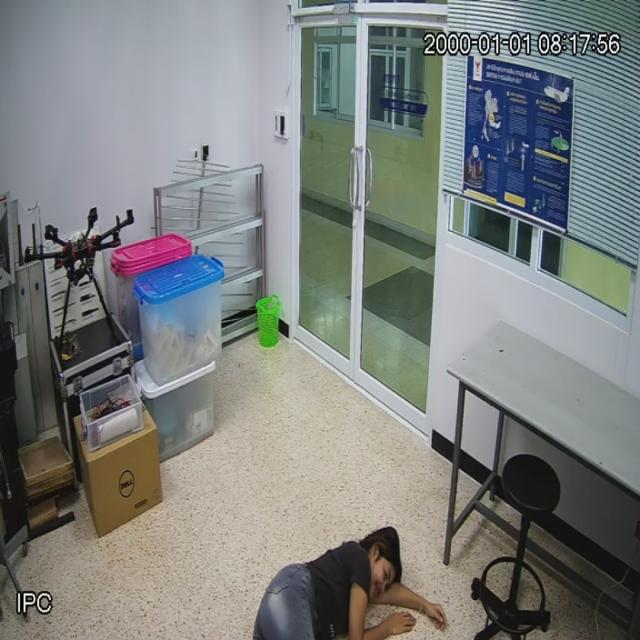fall: (247, 524, 444, 640)
